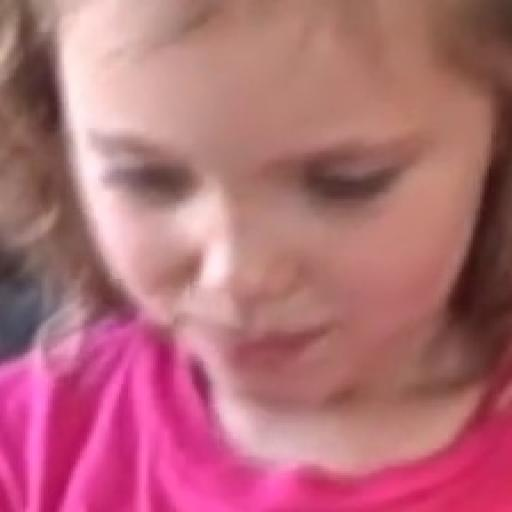Autism: (23, 2, 512, 462)
